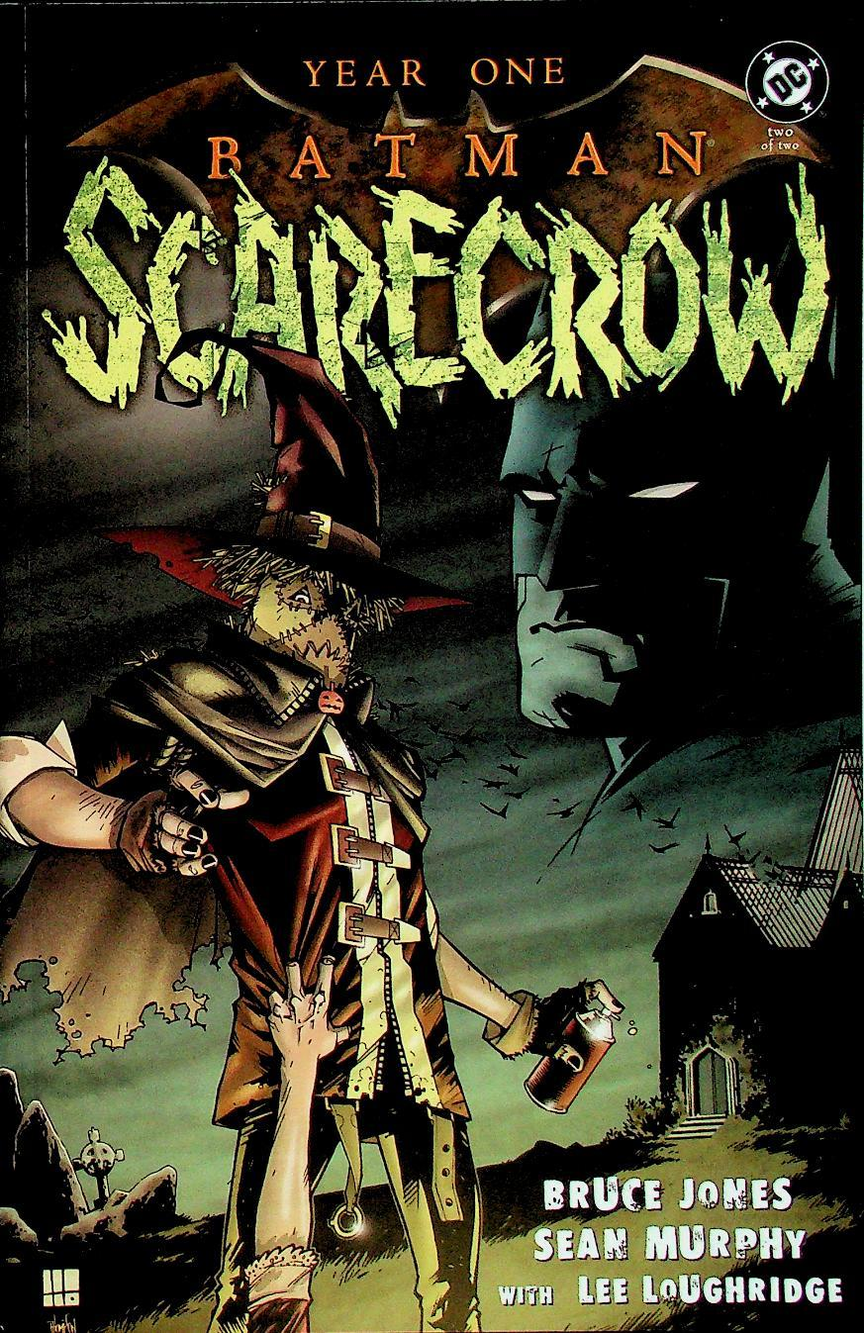comic: (0, 2, 860, 1332)
